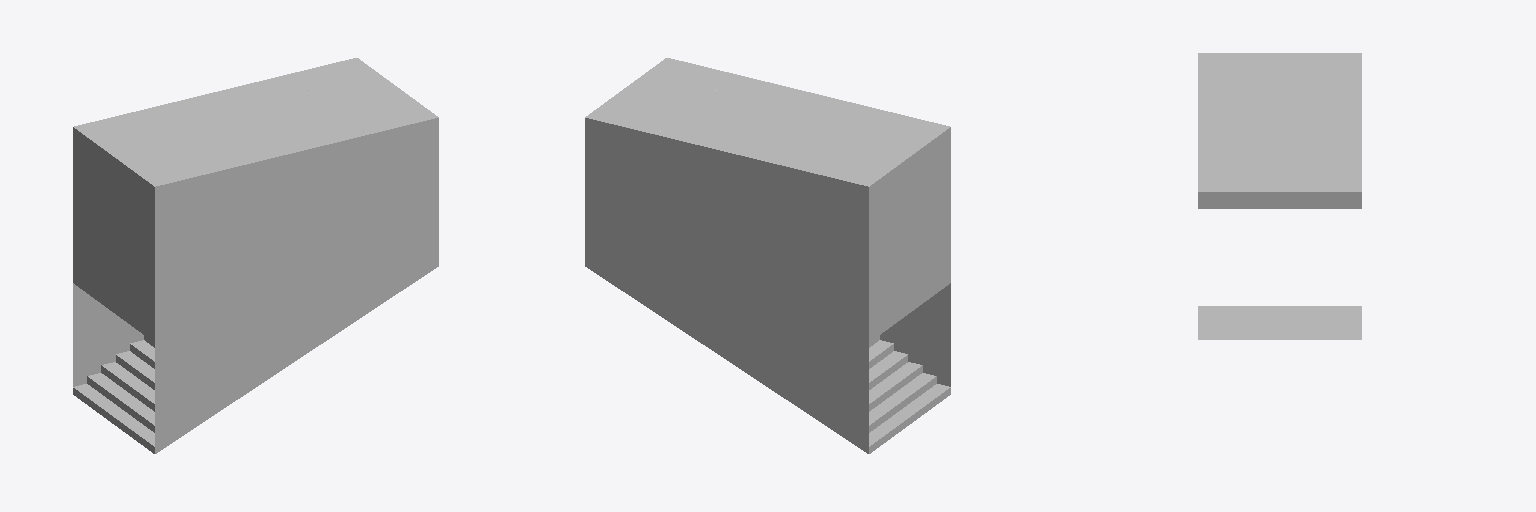
File: worldtile6.obj
The picture shows the model from 3 angles: view 1: azimuth 30°, elevation 25°; view 2: azimuth 150°, elevation 25°; view 3: azimuth 270°, elevation 25°; orthographic projection.
Parts seen in each view (by area): view 1: objobjDuplicate07; view 2: objobjDuplicate07; view 3: objobjDuplicate07.
Part boxes in pixels (x1,y1,x2,y2): objobjDuplicate07: (73,58,438,453); objobjDuplicate07: (585,58,950,453); objobjDuplicate07: (1198,53,1361,339).
Bounding box in the file's own units: 20 × 18 × 10.